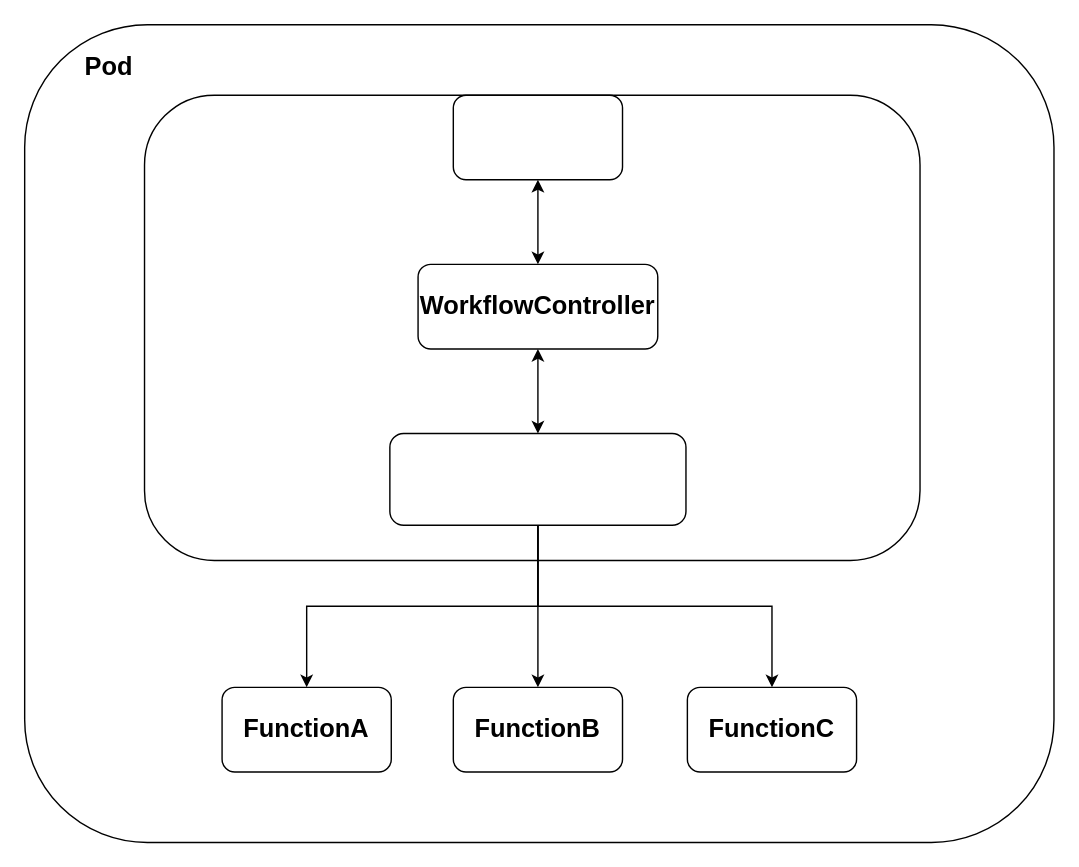
Image size: 1079x867. Some labels were removed from this diagram. The shapes that lost their labels are listed below. From the top down, each one's box as (x1, y1, x2, y2) in pixels, then its label:
(452, 94, 623, 180): HTTPServer
(388, 432, 686, 525): FunctionScheduler
